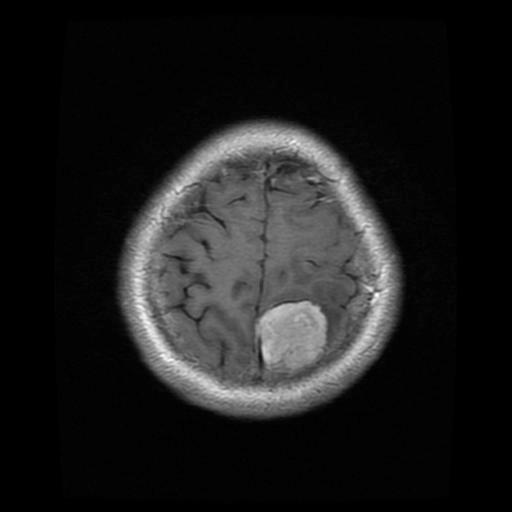Tumour-Pituitary: (247, 282, 351, 394)
